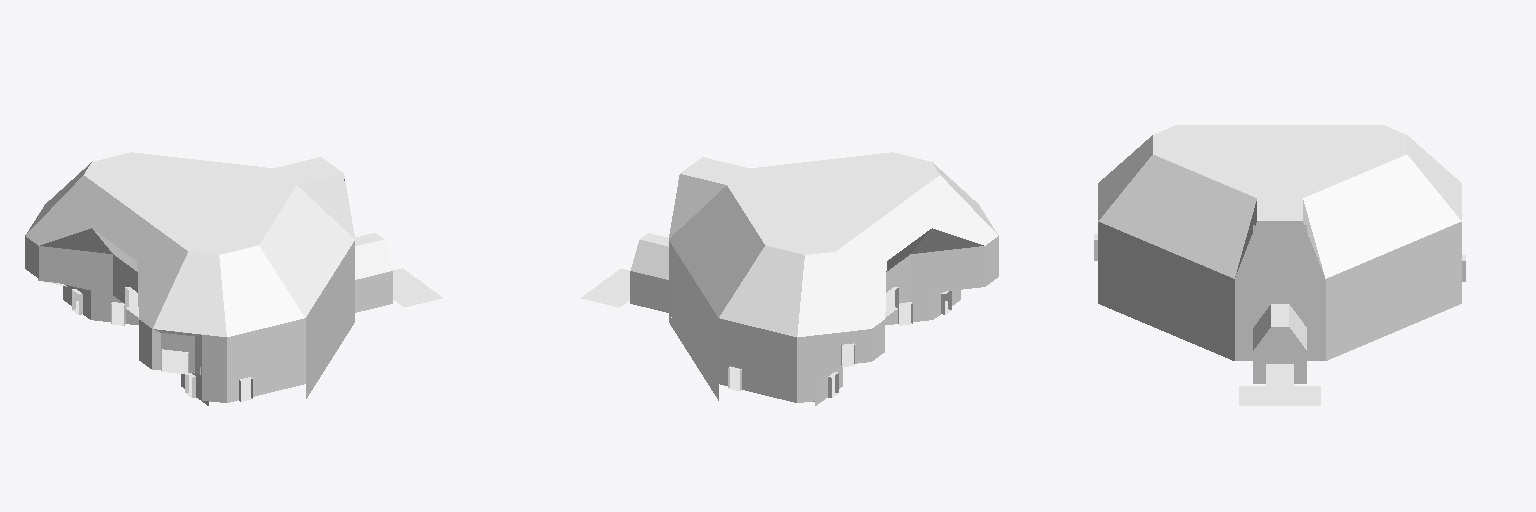
The model's file is PeachsCastle1F.obj.
3 renders of one model, left to right at view 1: azimuth 30°, elevation 25°; view 2: azimuth 150°, elevation 25°; view 3: azimuth 270°, elevation 25°, orthographic.
Visible parts, largest first — view 1: Shape_IndexedFaceSet.010_Shape_IndexedFaceSet.011, Shape_IndexedFaceSet.016_Shape_IndexedFaceSet.017, Shape_IndexedFaceSet.017_Shape_IndexedFaceSet.018, Shape_IndexedFaceSet.003_Shape_IndexedFaceSet.004, Shape_IndexedFaceSet.007_Shape_IndexedFaceSet.008, Shape_IndexedFaceSet.005_Shape_IndexedFaceSet.006, Shape_IndexedFaceSet.008_Shape_IndexedFaceSet.009, Shape_IndexedFaceSet.001_Shape_IndexedFaceSet.002, Shape_IndexedFaceSet.002_Shape_IndexedFaceSet.003, Shape_IndexedFaceSet.009_Shape_IndexedFaceSet.010; view 2: Shape_IndexedFaceSet.010_Shape_IndexedFaceSet.011, Shape_IndexedFaceSet.016_Shape_IndexedFaceSet.017, Shape_IndexedFaceSet.017_Shape_IndexedFaceSet.018, Shape_IndexedFaceSet.003_Shape_IndexedFaceSet.004, Shape_IndexedFaceSet.007_Shape_IndexedFaceSet.008, Shape_IndexedFaceSet.008_Shape_IndexedFaceSet.009, Shape_IndexedFaceSet.001_Shape_IndexedFaceSet.002, Shape_IndexedFaceSet.009_Shape_IndexedFaceSet.010, Shape_IndexedFaceSet.002_Shape_IndexedFaceSet.003; view 3: Shape_IndexedFaceSet.010_Shape_IndexedFaceSet.011, Shape_IndexedFaceSet.016_Shape_IndexedFaceSet.017, Shape_IndexedFaceSet.017_Shape_IndexedFaceSet.018, Shape_IndexedFaceSet.003_Shape_IndexedFaceSet.004, Shape_IndexedFaceSet.001_Shape_IndexedFaceSet.002, Shape_IndexedFaceSet.009_Shape_IndexedFaceSet.010, Shape_IndexedFaceSet.011_Shape_IndexedFaceSet.012, Shape_IndexedFaceSet.015_Shape_IndexedFaceSet.016, Shape_IndexedFaceSet.014_Shape_IndexedFaceSet.015, Shape_IndexedFaceSet.013_Shape_IndexedFaceSet.014, Shape_IndexedFaceSet.012_Shape_IndexedFaceSet.013.
Part boxes in pixels (x1,y1,x2,y2): Shape_IndexedFaceSet.010_Shape_IndexedFaceSet.011: (25, 152, 354, 336); Shape_IndexedFaceSet.016_Shape_IndexedFaceSet.017: (25, 236, 354, 378); Shape_IndexedFaceSet.017_Shape_IndexedFaceSet.018: (202, 282, 354, 402); Shape_IndexedFaceSet.003_Shape_IndexedFaceSet.004: (355, 233, 392, 312); Shape_IndexedFaceSet.007_Shape_IndexedFaceSet.008: (38, 279, 252, 405); Shape_IndexedFaceSet.005_Shape_IndexedFaceSet.006: (125, 287, 201, 375); Shape_IndexedFaceSet.008_Shape_IndexedFaceSet.009: (297, 174, 354, 238); Shape_IndexedFaceSet.001_Shape_IndexedFaceSet.002: (42, 268, 442, 401); Shape_IndexedFaceSet.002_Shape_IndexedFaceSet.003: (72, 291, 191, 397); Shape_IndexedFaceSet.009_Shape_IndexedFaceSet.010: (274, 157, 343, 184); Shape_IndexedFaceSet.010_Shape_IndexedFaceSet.011: (669, 152, 998, 336); Shape_IndexedFaceSet.016_Shape_IndexedFaceSet.017: (669, 236, 998, 378); Shape_IndexedFaceSet.017_Shape_IndexedFaceSet.018: (669, 282, 821, 402); Shape_IndexedFaceSet.003_Shape_IndexedFaceSet.004: (630, 233, 668, 312); Shape_IndexedFaceSet.007_Shape_IndexedFaceSet.008: (671, 290, 960, 405); Shape_IndexedFaceSet.008_Shape_IndexedFaceSet.009: (669, 174, 726, 238); Shape_IndexedFaceSet.001_Shape_IndexedFaceSet.002: (581, 268, 739, 390); Shape_IndexedFaceSet.009_Shape_IndexedFaceSet.010: (680, 157, 749, 184); Shape_IndexedFaceSet.002_Shape_IndexedFaceSet.003: (832, 291, 951, 397); Shape_IndexedFaceSet.010_Shape_IndexedFaceSet.011: (1098, 125, 1461, 278); Shape_IndexedFaceSet.016_Shape_IndexedFaceSet.017: (1098, 222, 1461, 319); Shape_IndexedFaceSet.017_Shape_IndexedFaceSet.018: (1098, 263, 1461, 360); Shape_IndexedFaceSet.003_Shape_IndexedFaceSet.004: (1253, 305, 1306, 383); Shape_IndexedFaceSet.001_Shape_IndexedFaceSet.002: (1239, 366, 1320, 405); Shape_IndexedFaceSet.009_Shape_IndexedFaceSet.010: (1257, 198, 1302, 220); Shape_IndexedFaceSet.011_Shape_IndexedFaceSet.012: (1251, 221, 1308, 237); Shape_IndexedFaceSet.015_Shape_IndexedFaceSet.016: (1235, 269, 1324, 278); Shape_IndexedFaceSet.014_Shape_IndexedFaceSet.015: (1239, 258, 1320, 268); Shape_IndexedFaceSet.013_Shape_IndexedFaceSet.014: (1243, 248, 1316, 257); Shape_IndexedFaceSet.012_Shape_IndexedFaceSet.013: (1247, 238, 1312, 247).
Size of the model in its own units: 4.35 by 1.79 by 4.2.